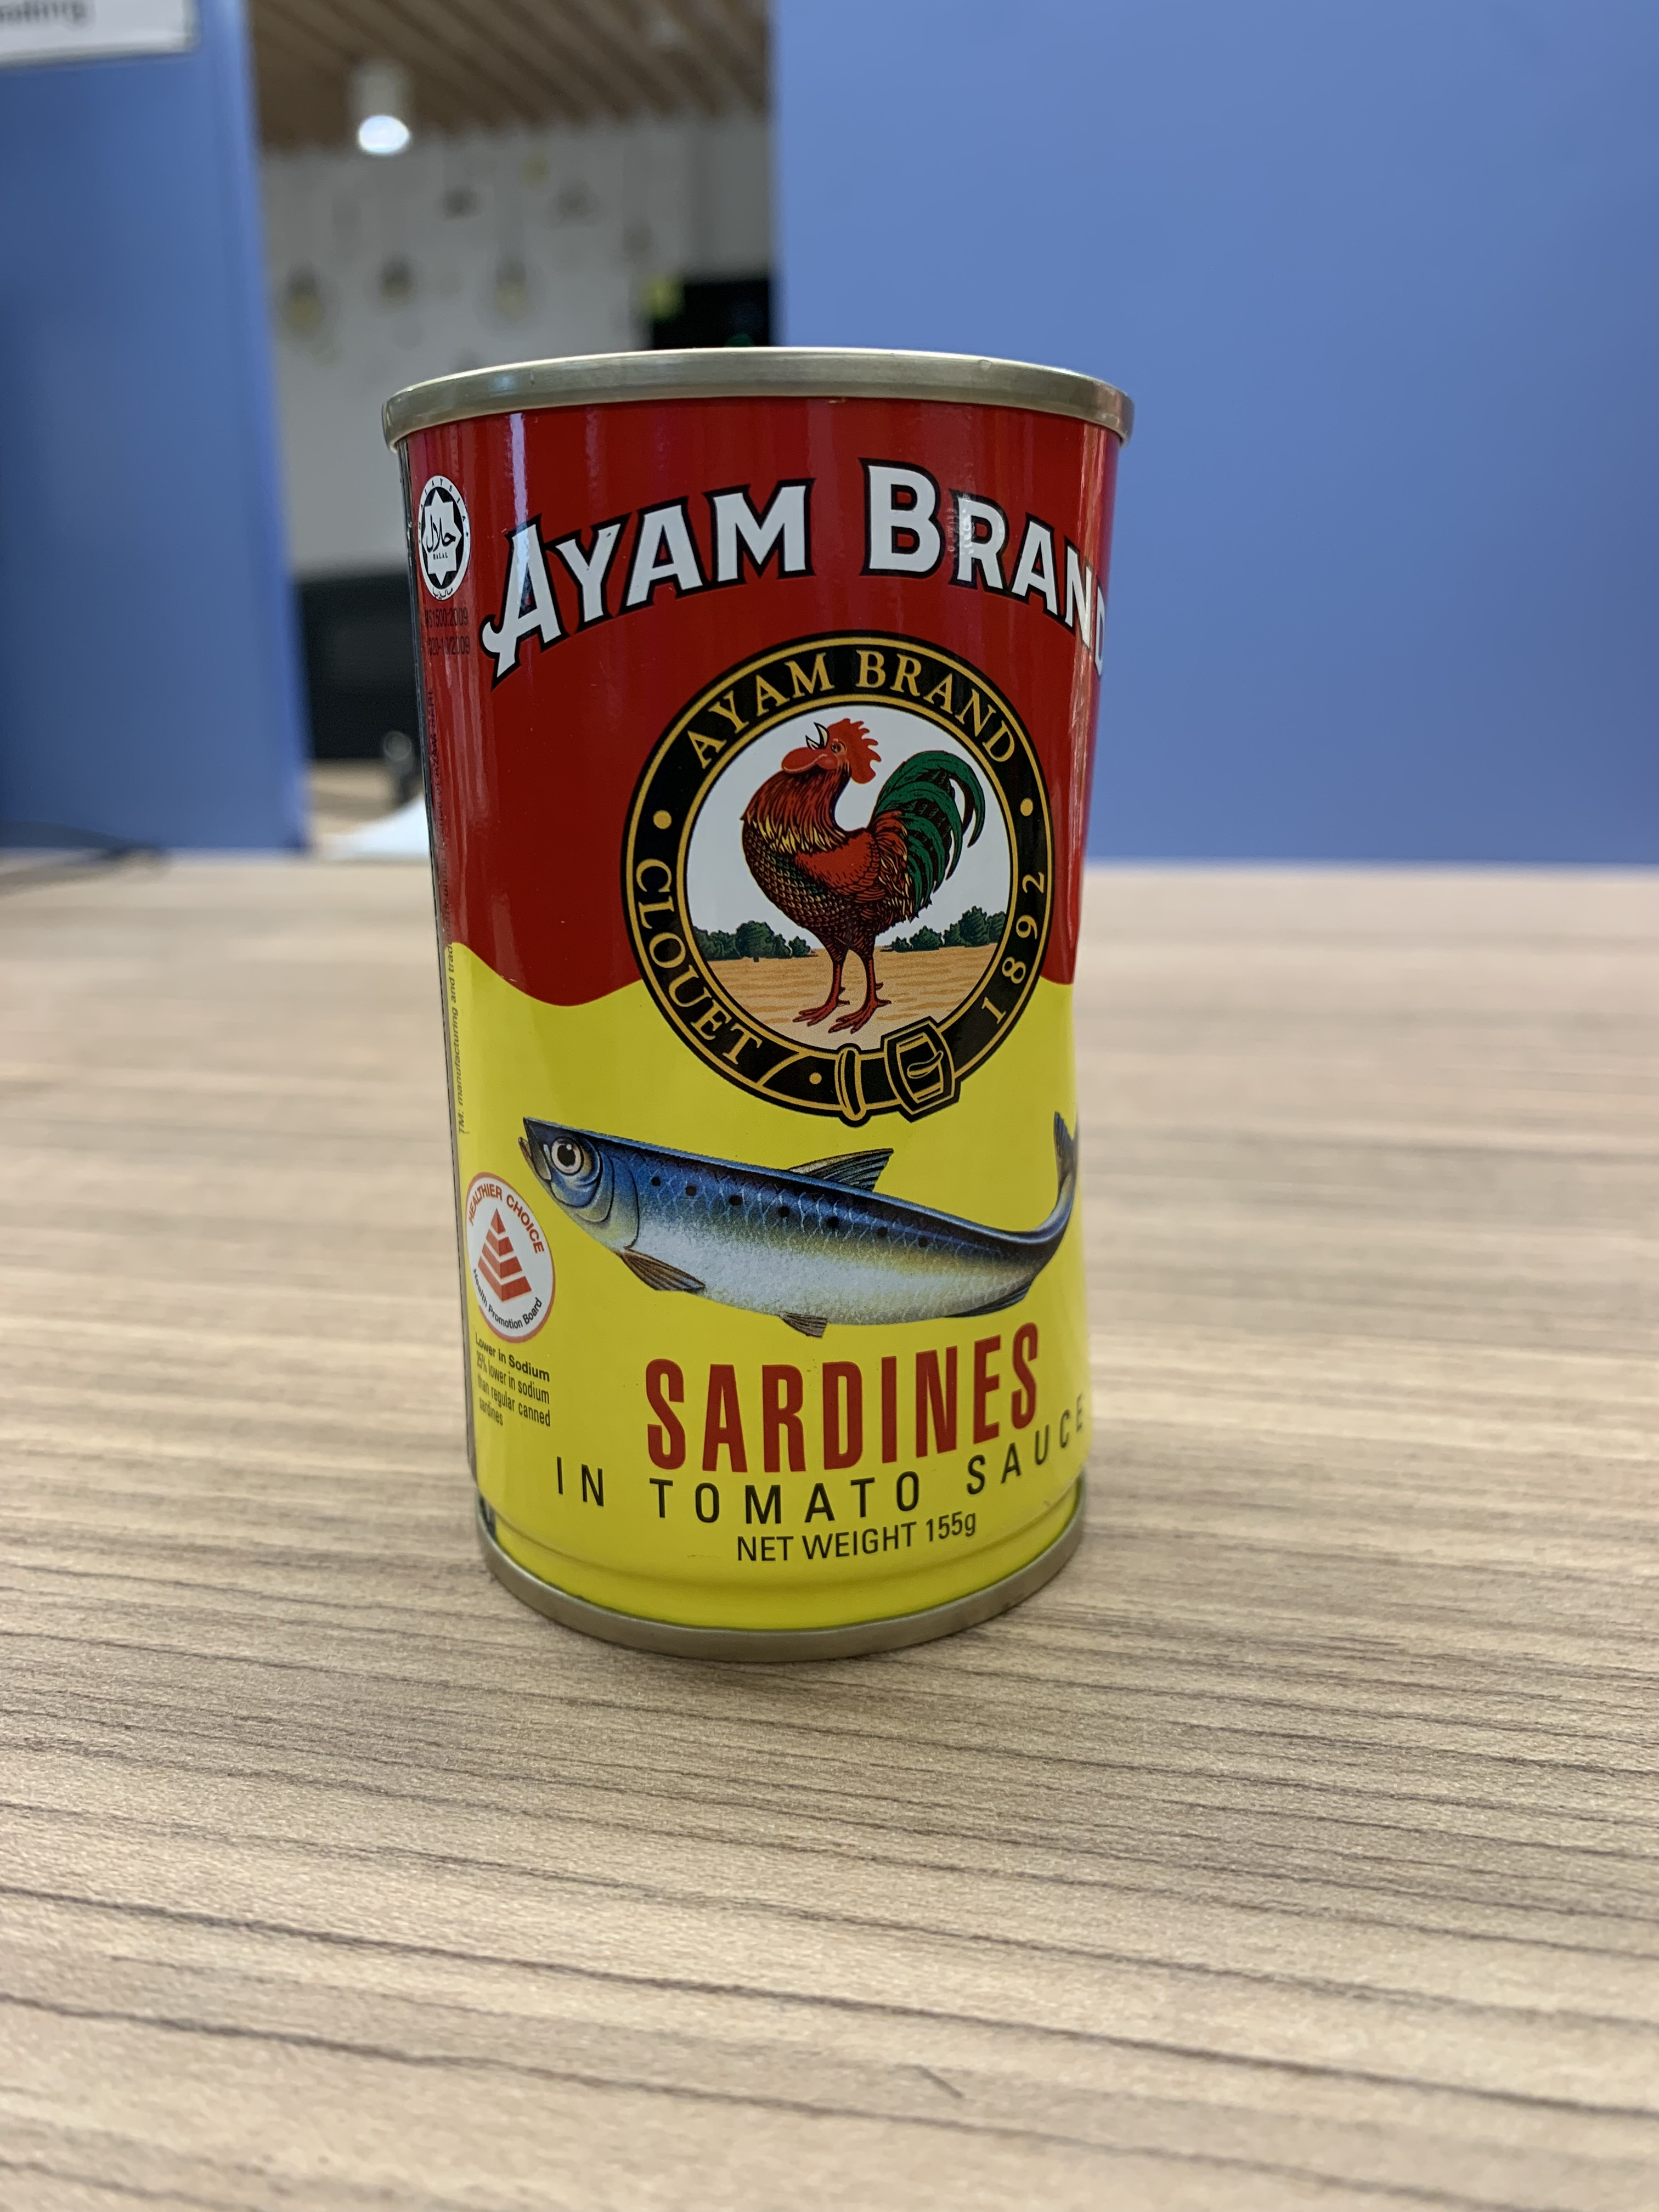sardines: (354, 334, 1152, 1683)
